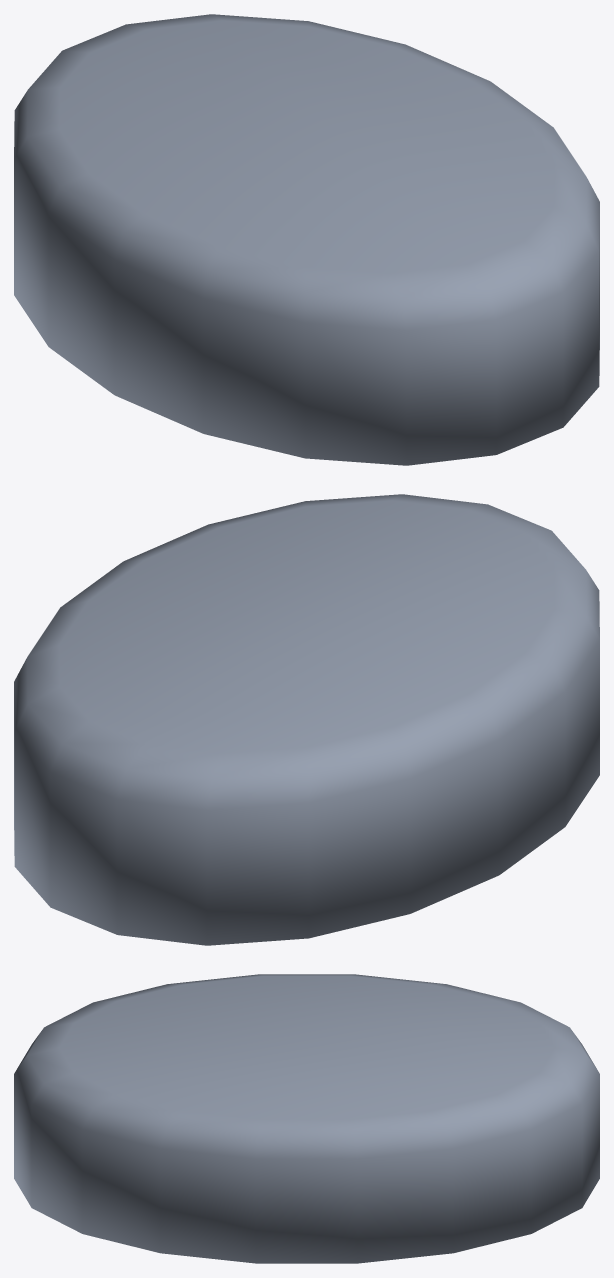
3 renders of one model, top to bottom at view 1: azimuth 30°, elevation 25°; view 2: azimuth 150°, elevation 25°; view 3: azimuth 270°, elevation 25°, orthographic. The views are drawn at different scales.
Parts seen in each view (by area): view 1: Cylinder.001; view 2: Cylinder.001; view 3: Cylinder.001.
Boxes of the visible parts, x1,y1,x2,y2 form: Cylinder.001: [14, 14, 599, 465]; Cylinder.001: [14, 494, 599, 945]; Cylinder.001: [14, 974, 599, 1263].
Bounding box in the file's own units: 266 × 95.25 × 387.
